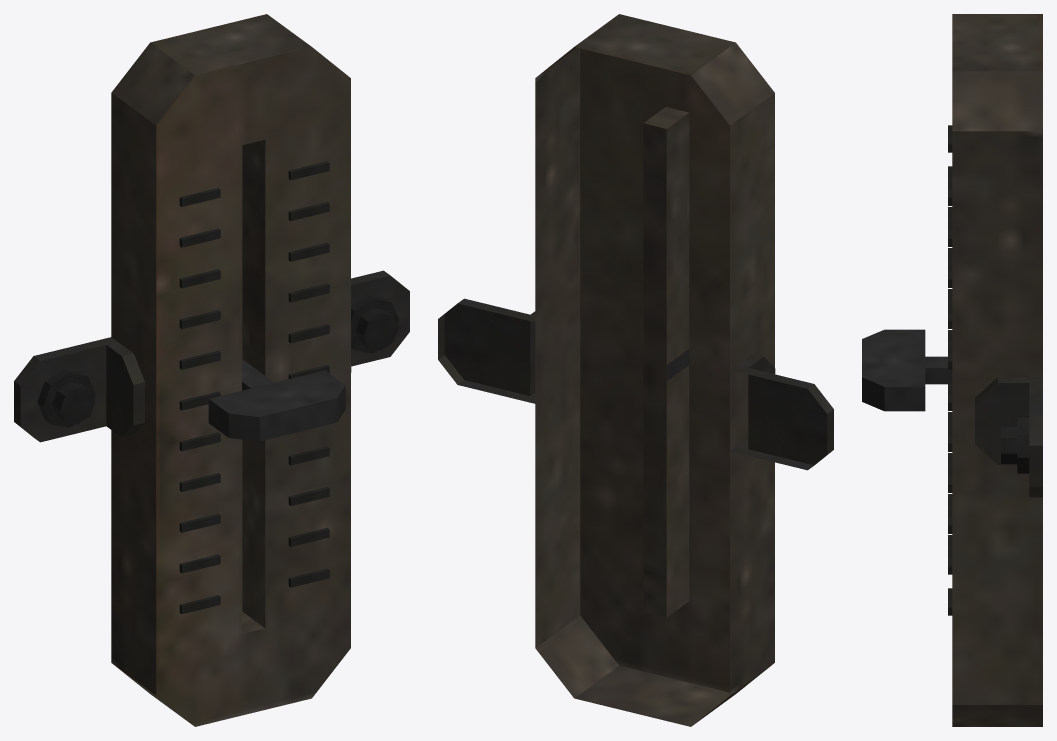
File: fader_etx_1.obj
3 views of the same model, side by side, from view 1: azimuth 30°, elevation 25°; view 2: azimuth 150°, elevation 25°; view 3: azimuth 270°, elevation 25° (orthographic).
Visible parts, largest first — view 1: fader_etx_1, fader_etx_1_child; view 2: fader_etx_1; view 3: fader_etx_1, fader_etx_1_child.
Part boxes in pixels (x1,y1,x2,y2): fader_etx_1: (14, 14, 409, 726); fader_etx_1_child: (208, 359, 345, 441); fader_etx_1: (438, 14, 833, 726); fader_etx_1: (948, 14, 1042, 726); fader_etx_1_child: (862, 329, 952, 411).
Size of the model in its own units: 0.18 by 0.288 by 0.072.
